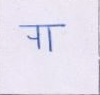aa_matra: (48, 28, 52, 52)
